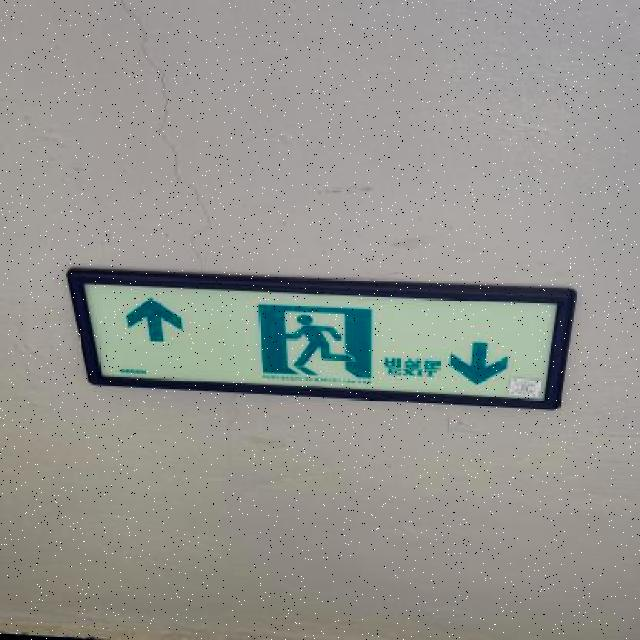emergency_exit: (66, 266, 577, 410)
